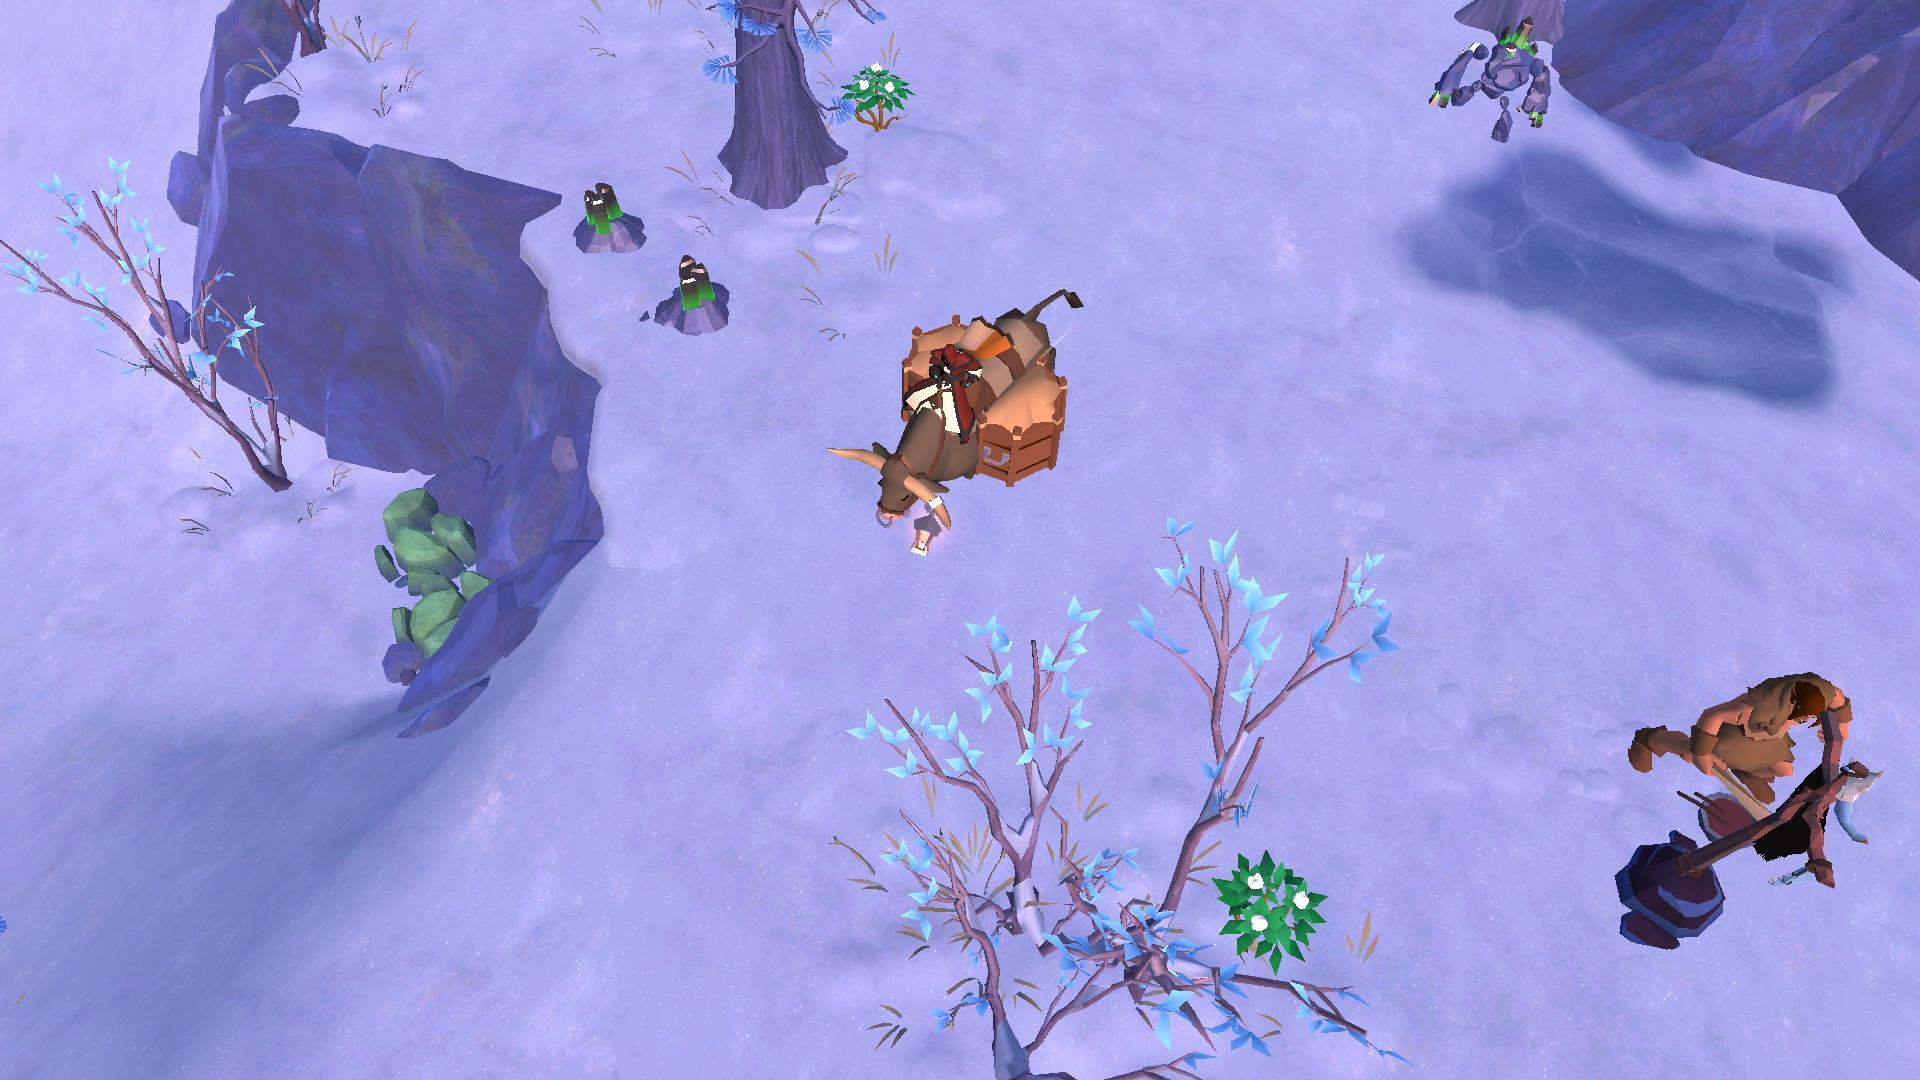enemy_factionKeeper: (1634, 669, 1849, 811)
fiber_t3: (1216, 847, 1333, 971), (827, 61, 911, 124)
ore_t3: (667, 249, 717, 309), (580, 173, 621, 231)
rock_t3: (365, 485, 487, 584), (377, 574, 510, 663)
